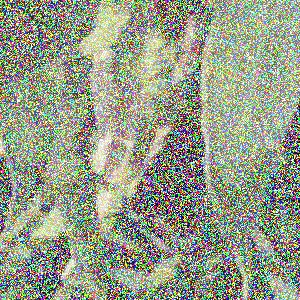Leaf_Blast: (201, 13, 288, 197)
